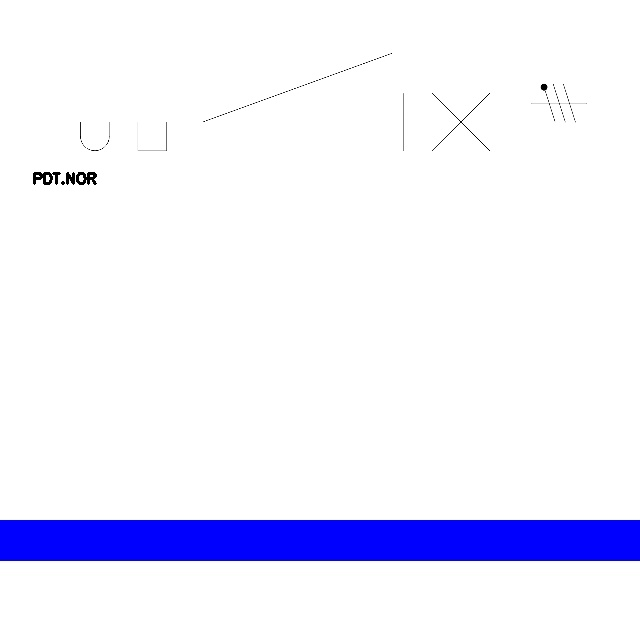interruptor_termomagnetico: (32, 41, 530, 163)
